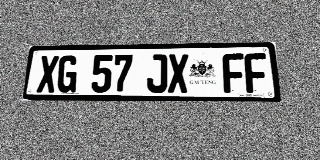5: (91, 55, 113, 93)
7: (112, 55, 133, 93)
F: (244, 53, 269, 93), (222, 53, 246, 93)
G: (56, 55, 79, 93)
J: (147, 54, 167, 93)
X: (36, 56, 59, 93), (168, 54, 189, 93)
